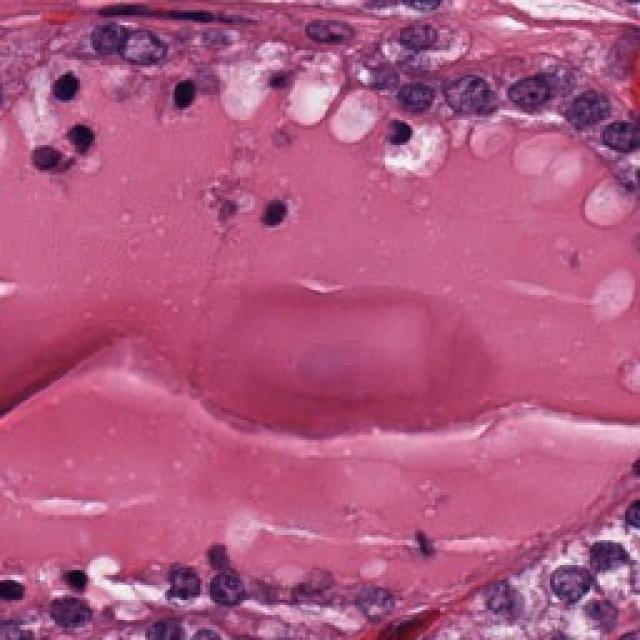normal: (378, 6, 465, 71), (585, 85, 640, 177), (92, 20, 170, 80), (478, 548, 530, 630), (190, 557, 252, 623), (502, 70, 558, 138)
